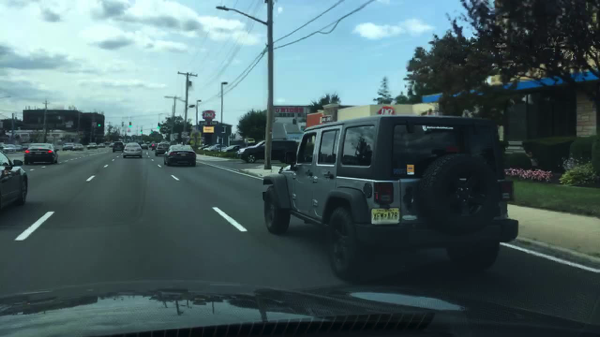car: (261, 116, 517, 280), (0, 152, 27, 211), (236, 139, 297, 164), (23, 143, 61, 166), (162, 144, 198, 168), (122, 143, 143, 160), (218, 143, 242, 154), (154, 142, 170, 156), (203, 143, 226, 152), (112, 141, 125, 153), (2, 144, 16, 154), (62, 141, 74, 150), (87, 141, 98, 150), (150, 141, 159, 150), (15, 143, 24, 152), (198, 143, 209, 150), (74, 143, 84, 150), (139, 143, 148, 150), (97, 142, 106, 148), (22, 143, 29, 150), (110, 141, 116, 147)
traffic light: (128, 121, 132, 129), (97, 120, 101, 128), (157, 121, 161, 128)
